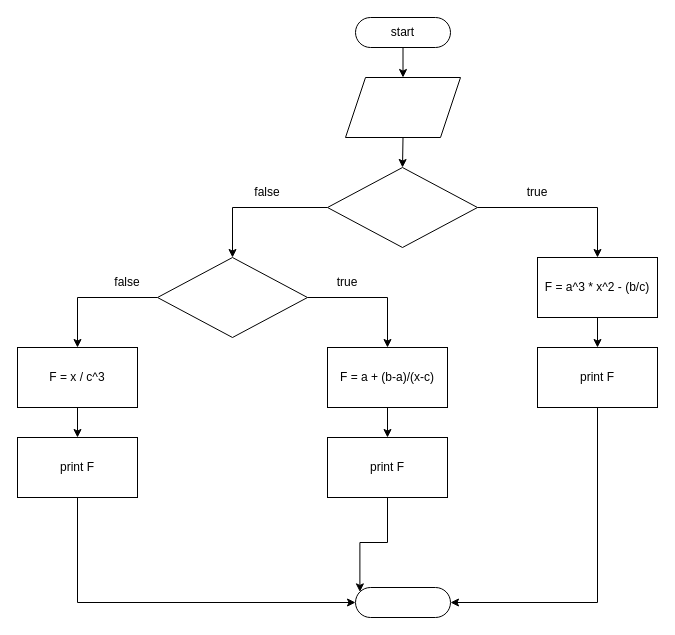
The diagram is 675 pixels wide and 635 high, and some of its shapes have lost their labels. The shapes that lost their labels are listed below. From the top down, each one's box as (x1, y1, x2, y2) in pixels, then its label:
(344, 76, 460, 138): enter a, b, c, x
(326, 166, 478, 248): if x + b < 10 and b!=0
(156, 256, 308, 338): x + b > 10 and b == 0
(354, 586, 450, 618): end
